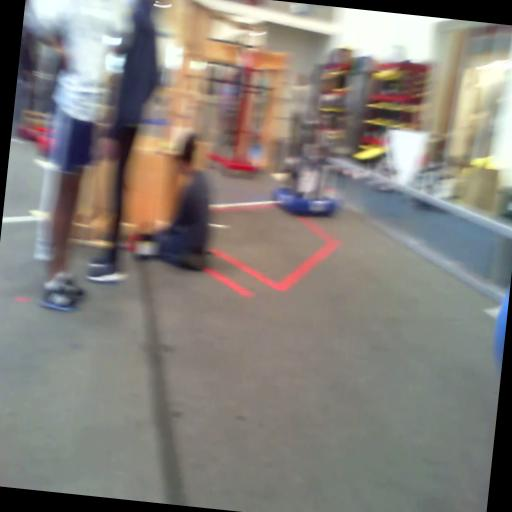robot: (274, 146, 344, 218)
